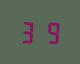nine: (39, 19, 58, 44)
three: (19, 19, 38, 43)
